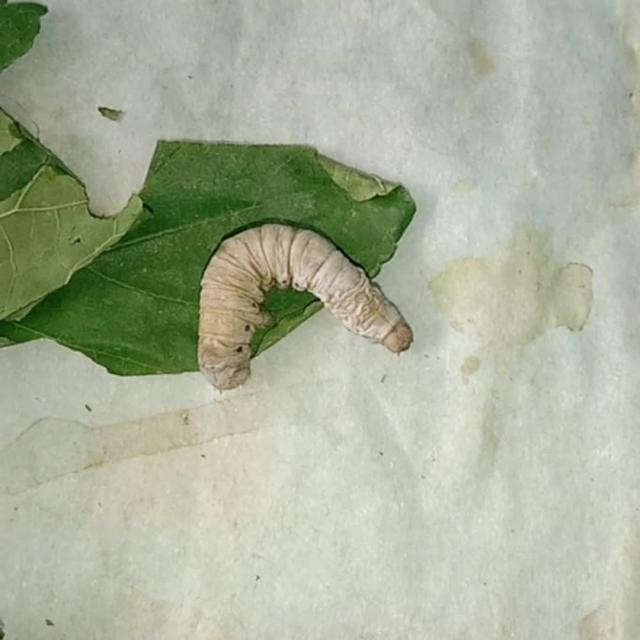Grasserie: (169, 202, 444, 430)
